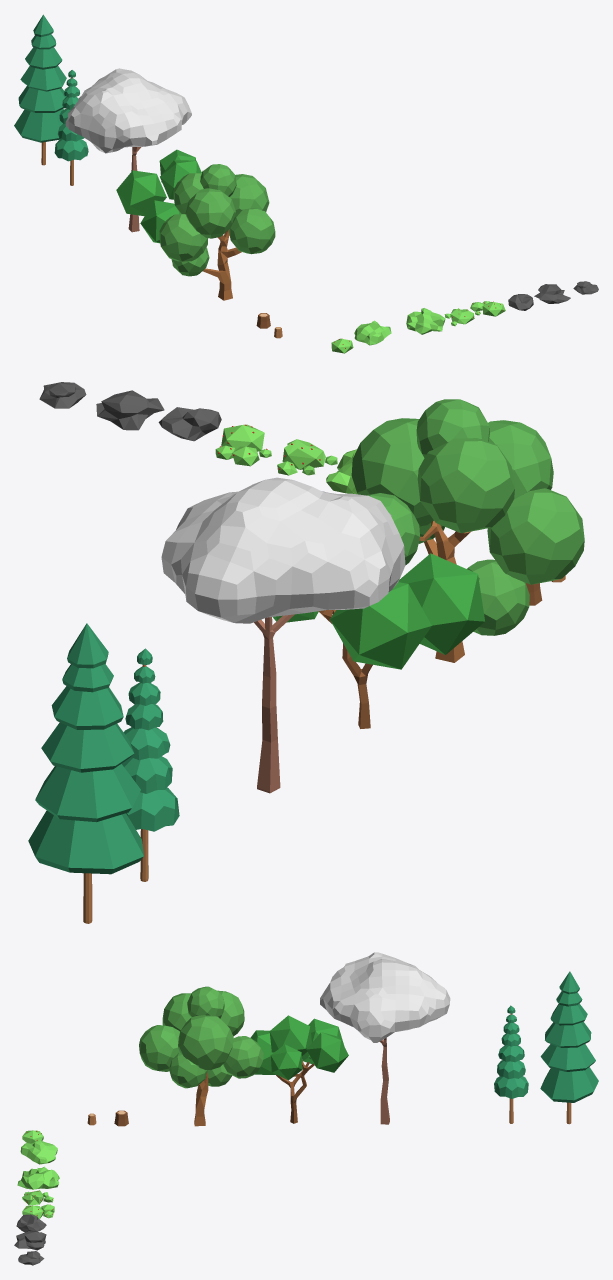
The model's file is FloraExp.fbx.
3 views of the same model, one above another, from view 1: azimuth 30°, elevation 25°; view 2: azimuth 150°, elevation 25°; view 3: azimuth 270°, elevation 25° (orthographic). The views are drawn at different scales.
Visible parts, largest first — view 1: Tree2Leaves, TreeTall1Leaves, Cylinder, Tree Leaves, Cylinder.001, Tree2, ShrubBig, Shrub0, Rock1; view 2: Tree2Leaves, TreeTall1Leaves, Cylinder, Tree Leaves, Cylinder.001, TreeTall1, Rock1, Shrub2, Rock3, Shrub1, Tree2, Tree1 (+2 smaller); view 3: Tree2Leaves, TreeTall1Leaves, Cylinder, Tree Leaves, Cylinder.001, ShrubBig, Shrub0, TreeTall1, Tree1, Tree2, Rock1.
Boxes of the visible parts, left/top/right/bottom form: Tree2Leaves: left=159, top=164, right=275, bottom=276; TreeTall1Leaves: left=65, top=68, right=191, bottom=153; Cylinder: left=14, top=14, right=66, bottom=142; Tree Leaves: left=116, top=149, right=202, bottom=243; Cylinder.001: left=54, top=70, right=88, bottom=161; Tree2: left=203, top=229, right=241, bottom=300; ShrubBig: left=406, top=308, right=445, bottom=334; Shrub0: left=354, top=320, right=391, bottom=345; Rock1: left=534, top=284, right=570, bottom=303; Tree2Leaves: left=351, top=399, right=584, bottom=635; TreeTall1Leaves: left=161, top=477, right=405, bottom=623; Cylinder: left=28, top=623, right=143, bottom=874; Tree Leaves: left=273, top=553, right=484, bottom=669; Cylinder.001: left=121, top=648, right=179, bottom=831; TreeTall1: left=254, top=614, right=294, bottom=793; Rock1: left=96, top=390, right=164, bottom=430; Shrub2: left=215, top=424, right=271, bottom=466; Rock3: left=158, top=407, right=221, bottom=441; Shrub1: left=277, top=439, right=337, bottom=475; Tree2: left=419, top=521, right=471, bottom=662; Tree1: left=319, top=610, right=372, bottom=728; Tree2Leaves: left=139, top=986, right=263, bottom=1088; TreeTall1Leaves: left=320, top=952, right=450, bottom=1042; Cylinder: left=540, top=971, right=598, bottom=1102; Tree Leaves: left=250, top=1015, right=348, bottom=1080; Cylinder.001: left=494, top=1005, right=528, bottom=1098; ShrubBig: left=17, top=1166, right=59, bottom=1189; Shrub0: left=20, top=1140, right=57, bottom=1164; TreeTall1: left=379, top=1038, right=389, bottom=1124; Tree1: left=276, top=1060, right=314, bottom=1123; Tree2: left=194, top=1072, right=208, bottom=1126; Rock1: left=14, top=1231, right=46, bottom=1250.
Size of the model in its own units: 20.93 by 29.78 by 8.97.
